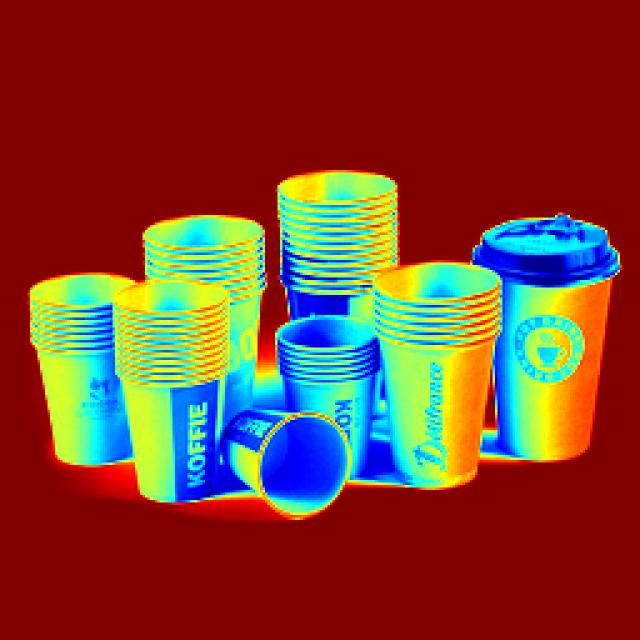Paper Cups: (477, 209, 614, 447), (369, 255, 488, 487), (117, 287, 233, 493), (108, 293, 215, 499), (23, 269, 118, 458), (274, 169, 392, 303), (210, 390, 326, 520), (286, 314, 371, 455), (140, 225, 266, 316)
